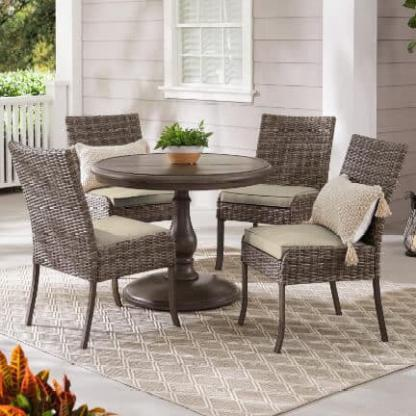table: (90, 150, 274, 314)
